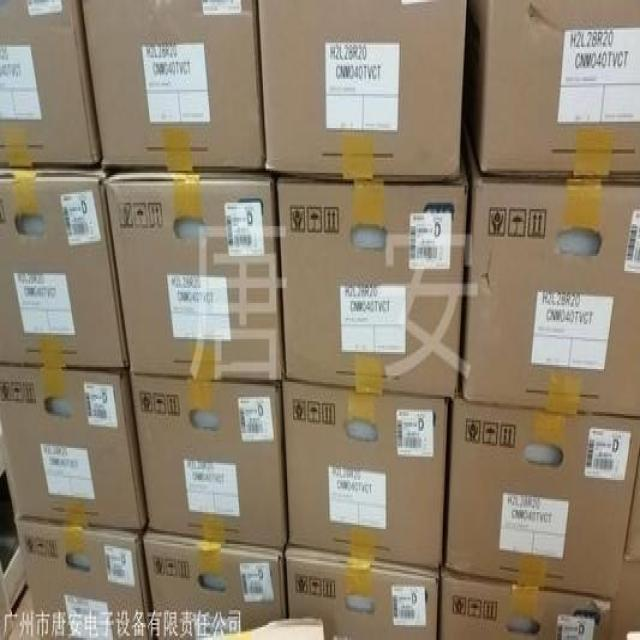box: (460, 118, 639, 418), (277, 149, 468, 397), (445, 401, 639, 599), (101, 173, 282, 382), (256, 0, 466, 179), (77, 1, 264, 170), (464, 0, 639, 179), (282, 383, 448, 571), (131, 378, 289, 548), (0, 167, 127, 367), (1, 363, 148, 532), (15, 518, 155, 638), (0, 0, 98, 164), (144, 527, 287, 638), (283, 541, 439, 638), (439, 574, 612, 638), (608, 561, 639, 638), (623, 459, 639, 560)
